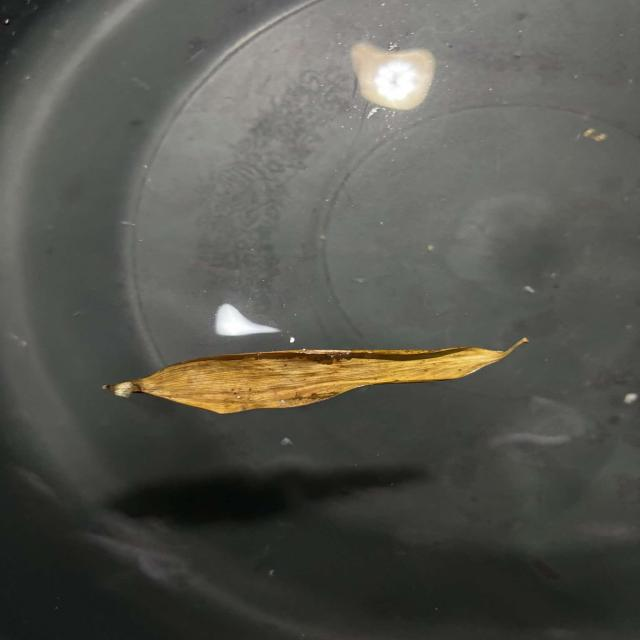Leaf: (94, 304, 564, 464)
